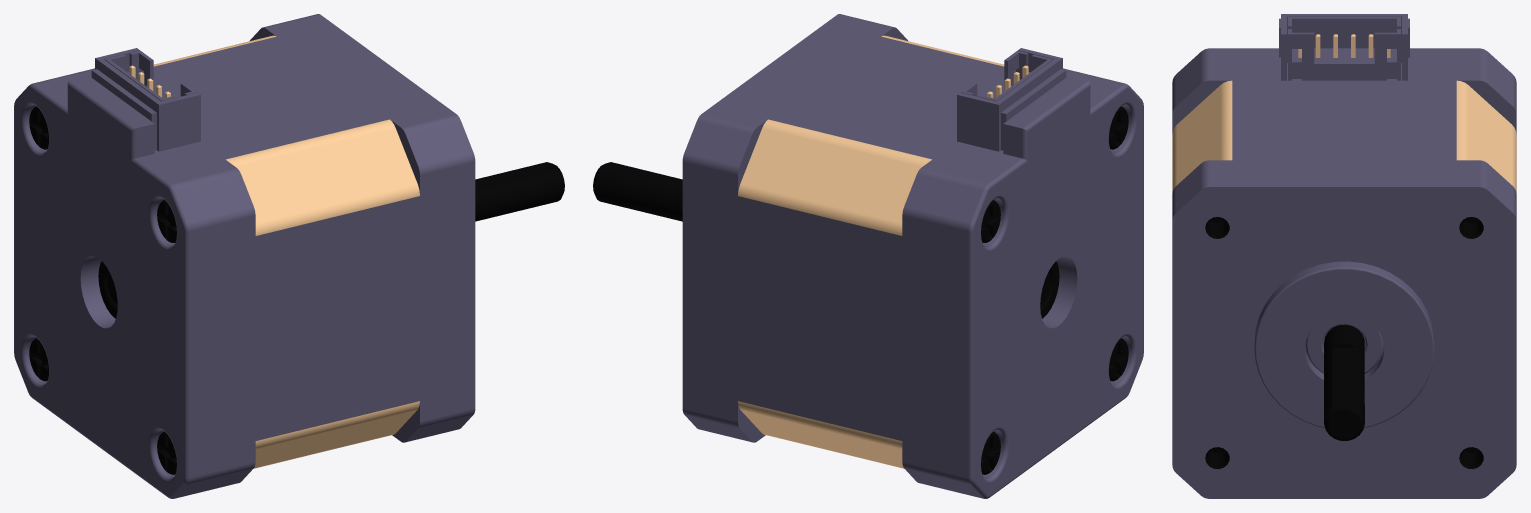
File: Main_Nema17_StepperMotor.dae
3 renders of one model, left to right at view 1: azimuth 30°, elevation 25°; view 2: azimuth 150°, elevation 25°; view 3: azimuth 270°, elevation 25°, orthographic.
Visible parts, largest first — view 1: Main_Nema17_StepperMotor; view 2: Main_Nema17_StepperMotor; view 3: Main_Nema17_StepperMotor.
Part boxes in pixels (<box>): Main_Nema17_StepperMotor: <box>14,14,564,498</box>; Main_Nema17_StepperMotor: <box>593,14,1143,498</box>; Main_Nema17_StepperMotor: <box>1172,14,1516,498</box>.
Size of the model in its own units: 0.064 by 0.042 by 0.0482.
